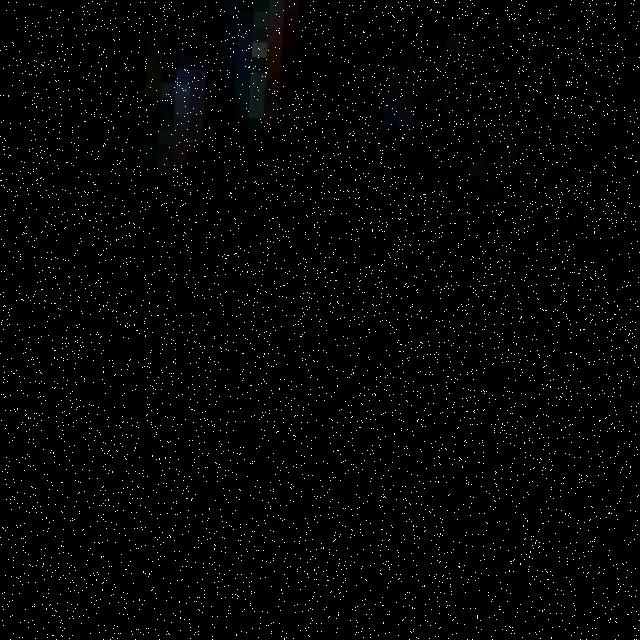Ograniczenie predkosci do 80: (117, 116, 498, 536)
